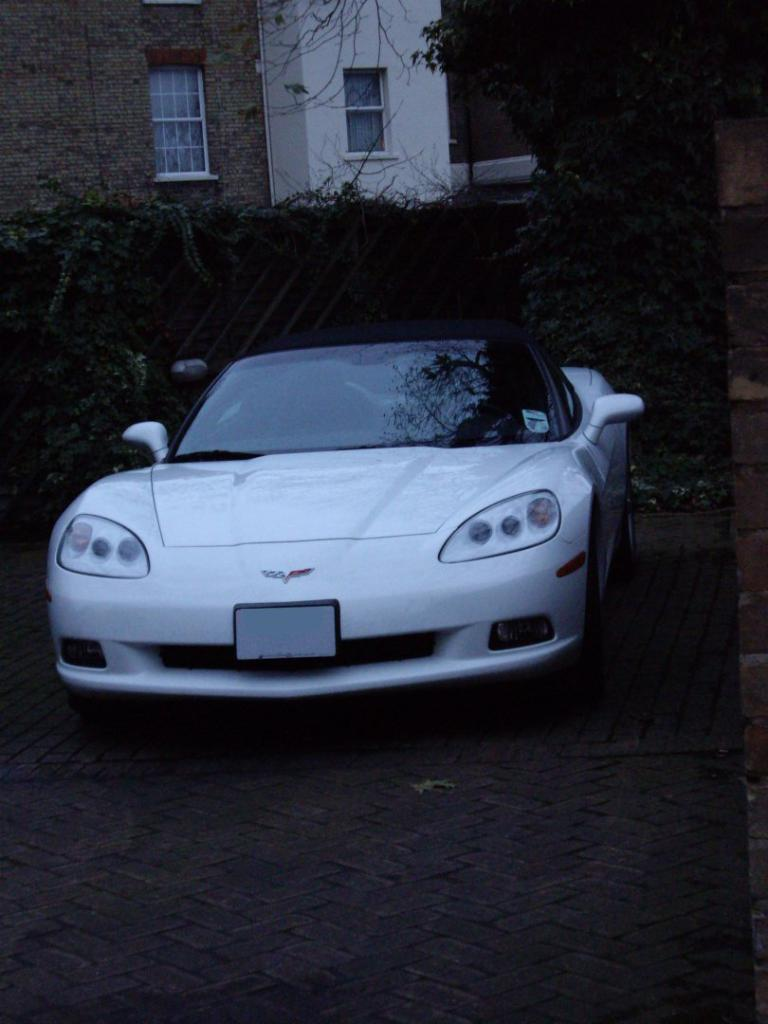Tree: (0, 0, 766, 517)
